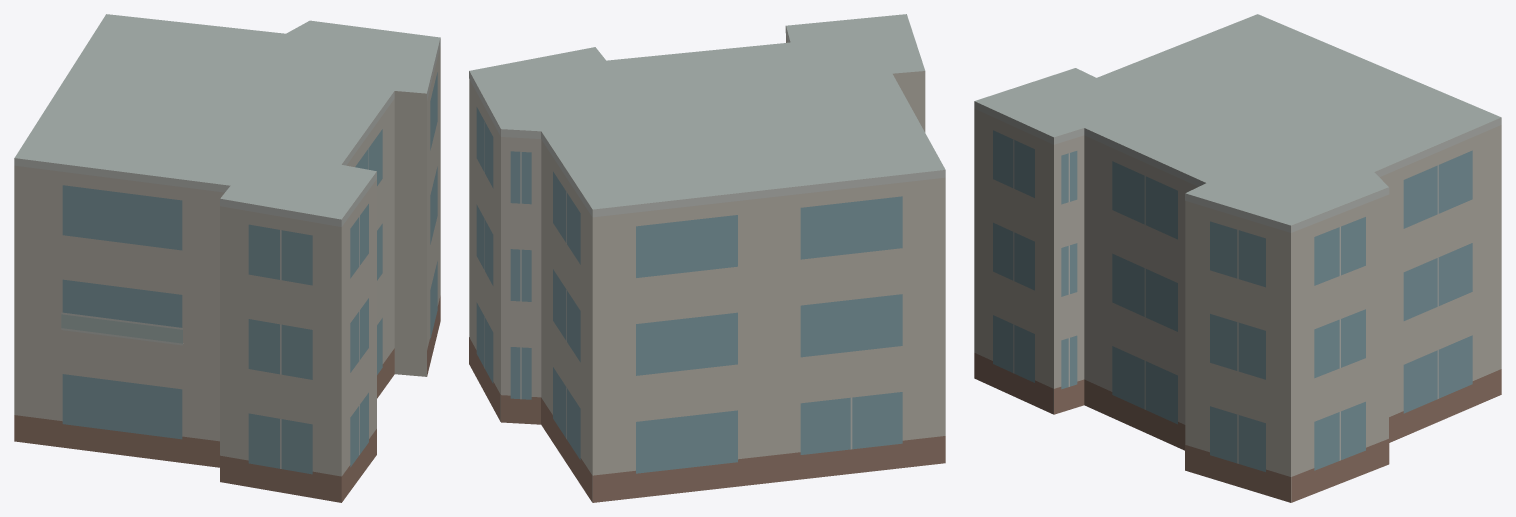
File: survey-upis-32855482.glb
3 renders of one model, left to right at view 1: azimuth 30°, elevation 25°; view 2: azimuth 150°, elevation 25°; view 3: azimuth 270°, elevation 25°, orthographic. The views are drawn at different scales.
Parts seen in each view (by area): view 1: survey-upis-32855482.tmp; view 2: survey-upis-32855482.tmp; view 3: survey-upis-32855482.tmp.
Boxes of the visible parts, x1,y1,x2,y2 form: survey-upis-32855482.tmp: (14,14,440,502); survey-upis-32855482.tmp: (469,14,945,502); survey-upis-32855482.tmp: (974,14,1501,502).
Size of the model in its own units: 14.99 by 9.15 by 15.78.
